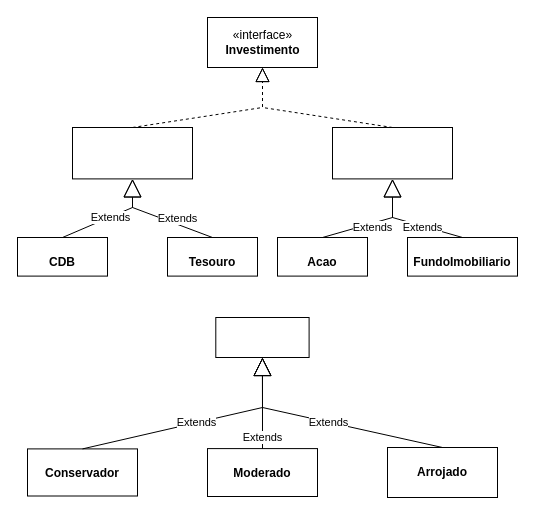
Some shapes in this 535 by 515 pixel diagram are drawn without their labels. The centre of each missing label's shape, as x and y in pixels:
PerfilCliente: the point at 262,337
RendaFixa: the point at 132,152
RendaVariavel: the point at 392,152
